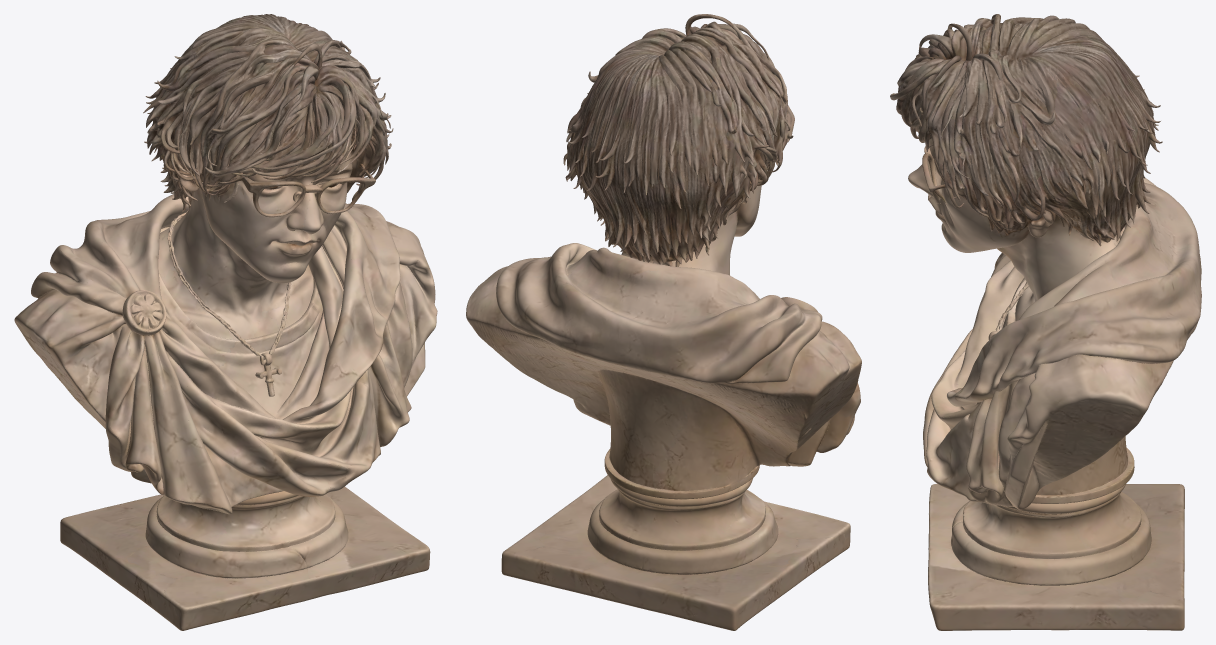
File: 08_오수한.compressed.glb
3 views of the same model, side by side, from view 1: azimuth 30°, elevation 25°; view 2: azimuth 150°, elevation 25°; view 3: azimuth 270°, elevation 25° (orthographic). The views are drawn at different scales.
Visible parts, largest first — view 1: model; view 2: model; view 3: model.
Part boxes in pixels (x1=…): model: x1=14, y1=14, x2=437, y2=630; model: x1=466, y1=14, x2=861, y2=630; model: x1=890, y1=14, x2=1201, y2=630.
Bounding box in the file's own units: 1.4 × 1.9 × 0.9718.
1 material, 1 textured.
